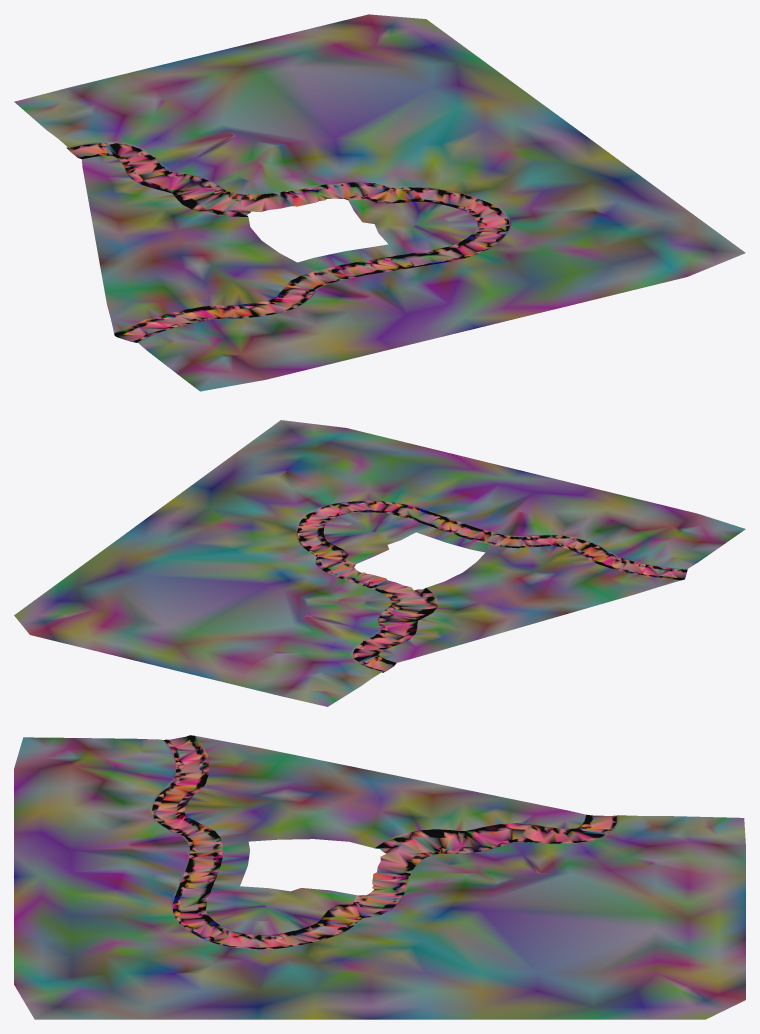
The model's file is Terrain.gltf.
3 views of the same model, one above another, from view 1: azimuth 30°, elevation 25°; view 2: azimuth 150°, elevation 25°; view 3: azimuth 270°, elevation 25° (orthographic). The views are drawn at different scales.
Parts seen in each view (by area): view 1: Terrain; view 2: Terrain; view 3: Terrain.
Part boxes in pixels (x1=…): Terrain: x1=14, y1=14, x2=745, y2=391; Terrain: x1=14, y1=420, x2=745, y2=706; Terrain: x1=14, y1=735, x2=745, y2=1019.
Size of the model in its own units: 1739 by 30.87 by 1884.
